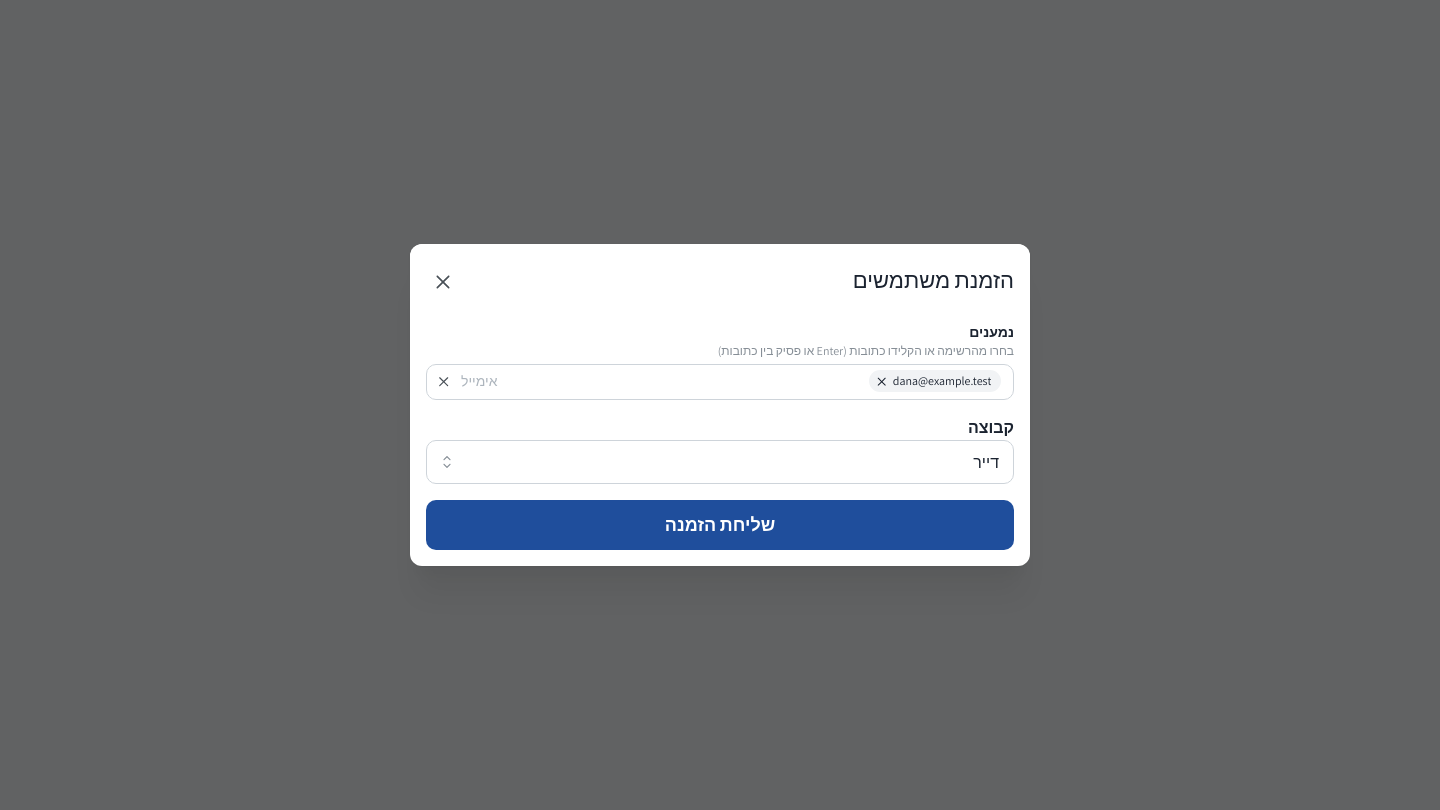
Test: InviteDialog › prefilled from the directory; failures stay listed in the dialog
Click the button "שליחת הזמנה" at (720, 526), box [426,500,1014,550]
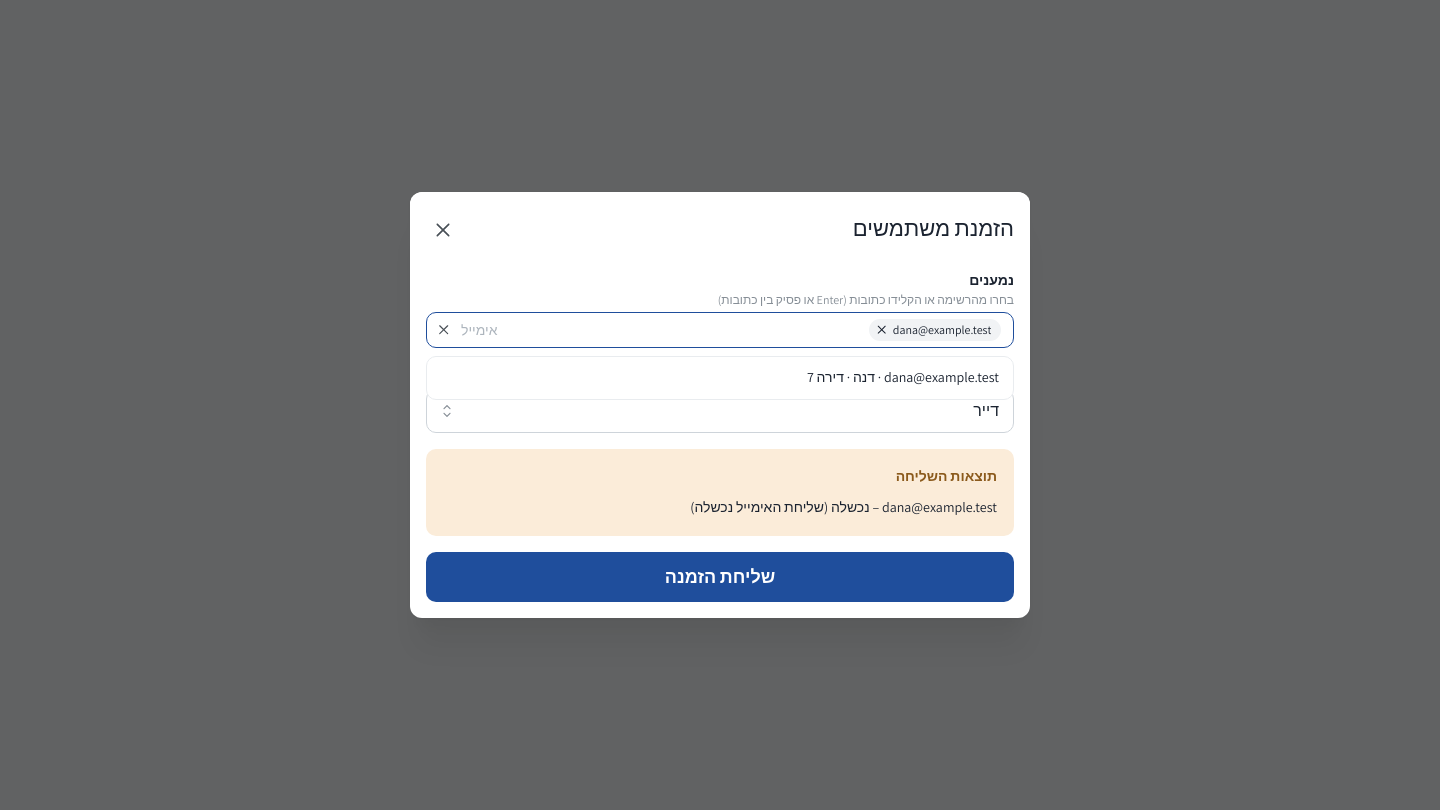
Check: the text "תוצאות השליחה" is shown, box [896,466,997,488]
Check: the text "dana@example.test – נכשלה (שליחת האימייל נכשלה)" is shown, box [690,498,997,516]
